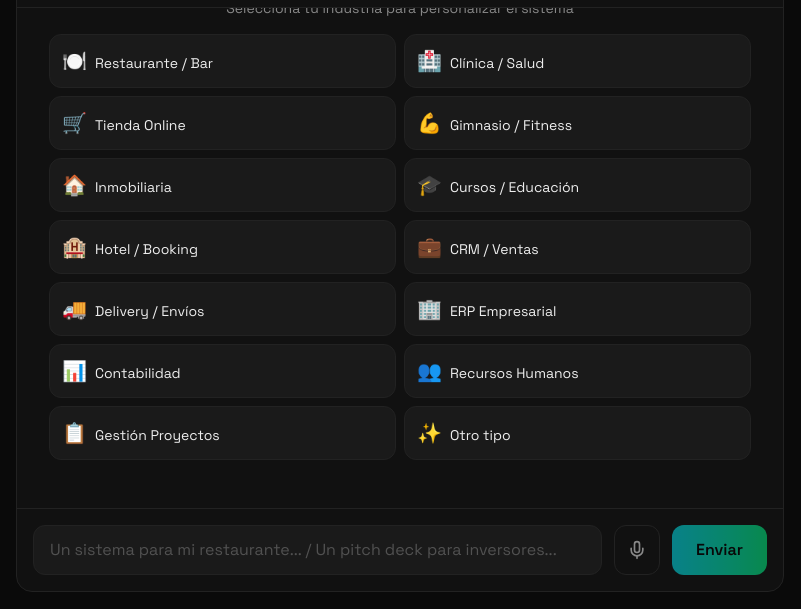
ChatWidget Component › allows typing and enables send
(page scrolled)
Replace the text in the field with placeholder "sistema para mi" with "Quiero un CRM" at (318, 550), box x1=33 y1=525 x2=602 y2=575
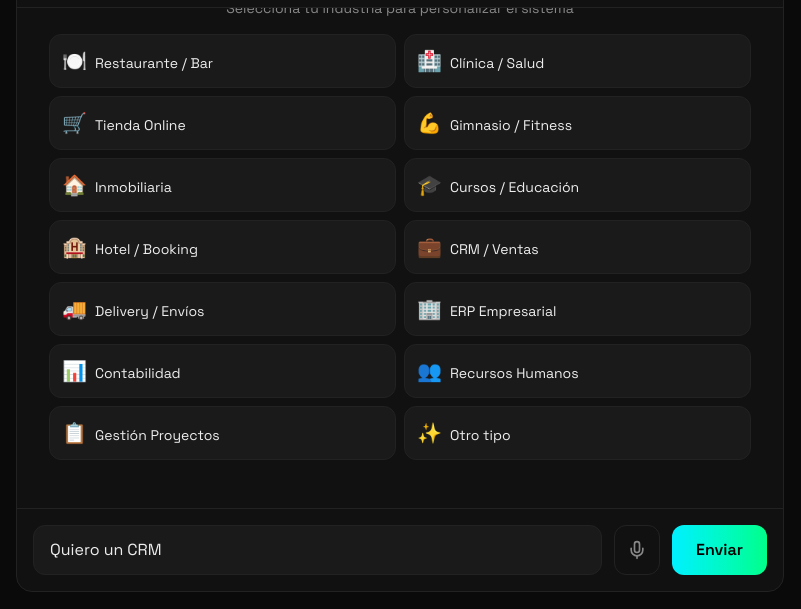
Expected: the button "Enviar" is enabled, x1=672 y1=525 x2=767 y2=575
